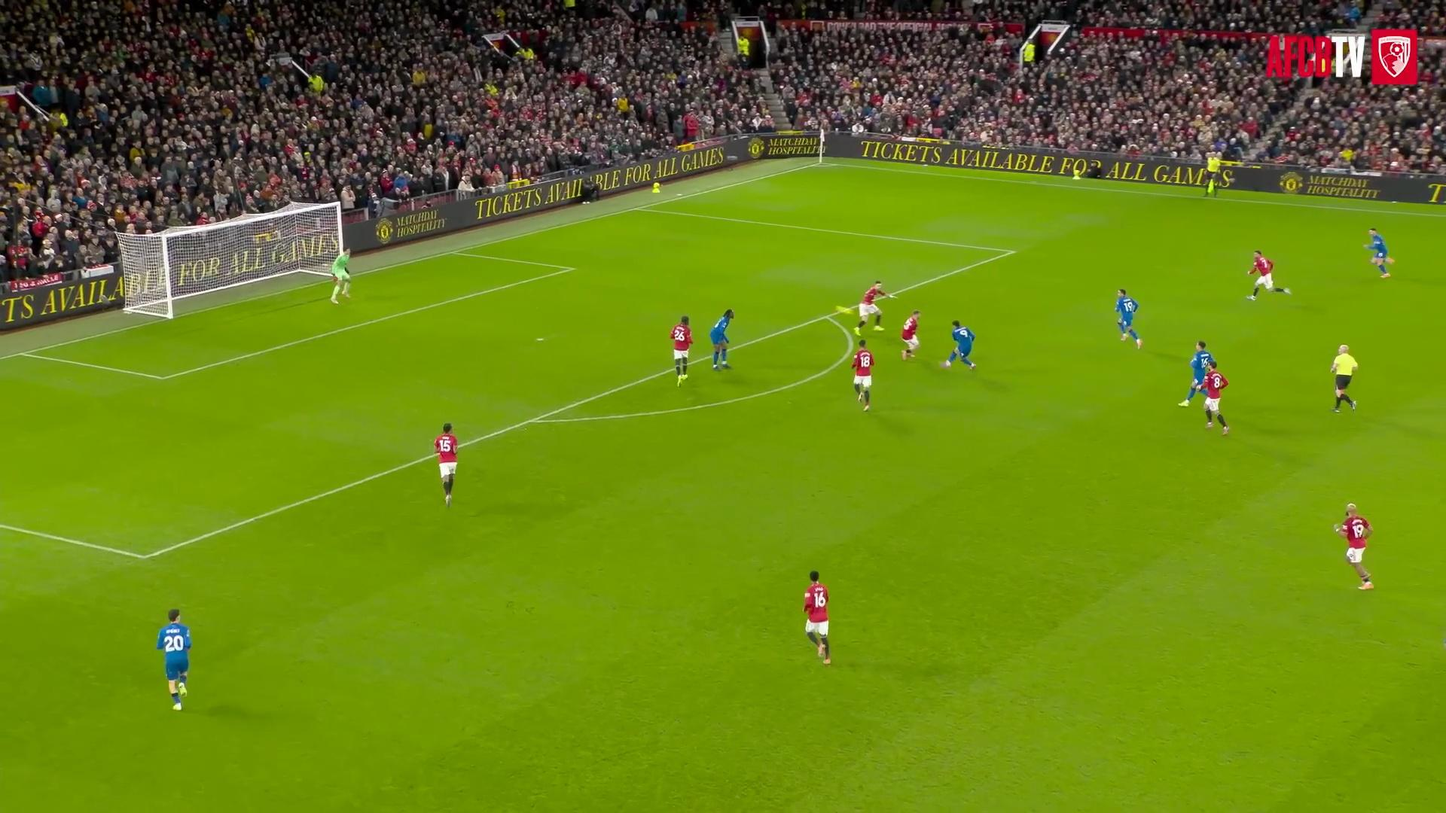football: (830, 304, 855, 316)
player: (156, 610, 191, 711), (1334, 504, 1373, 589), (804, 571, 831, 664), (1178, 340, 1213, 406), (1247, 251, 1290, 300), (1200, 359, 1228, 434), (434, 422, 458, 507), (854, 281, 888, 335), (942, 321, 976, 369), (1115, 289, 1142, 348), (709, 309, 734, 370), (1364, 228, 1394, 278), (853, 340, 874, 411), (671, 315, 692, 385), (331, 249, 350, 303), (901, 309, 920, 359)
referee: (1332, 345, 1358, 412), (1204, 154, 1222, 197)
